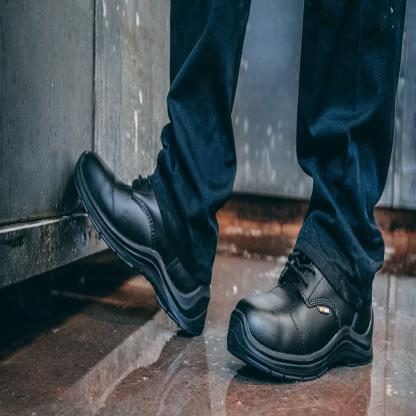bota: (71, 146, 213, 341), (224, 244, 378, 386)
